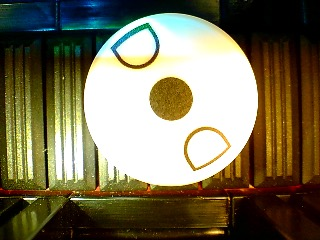BOHOMIPO2: (83, 12, 259, 187)
